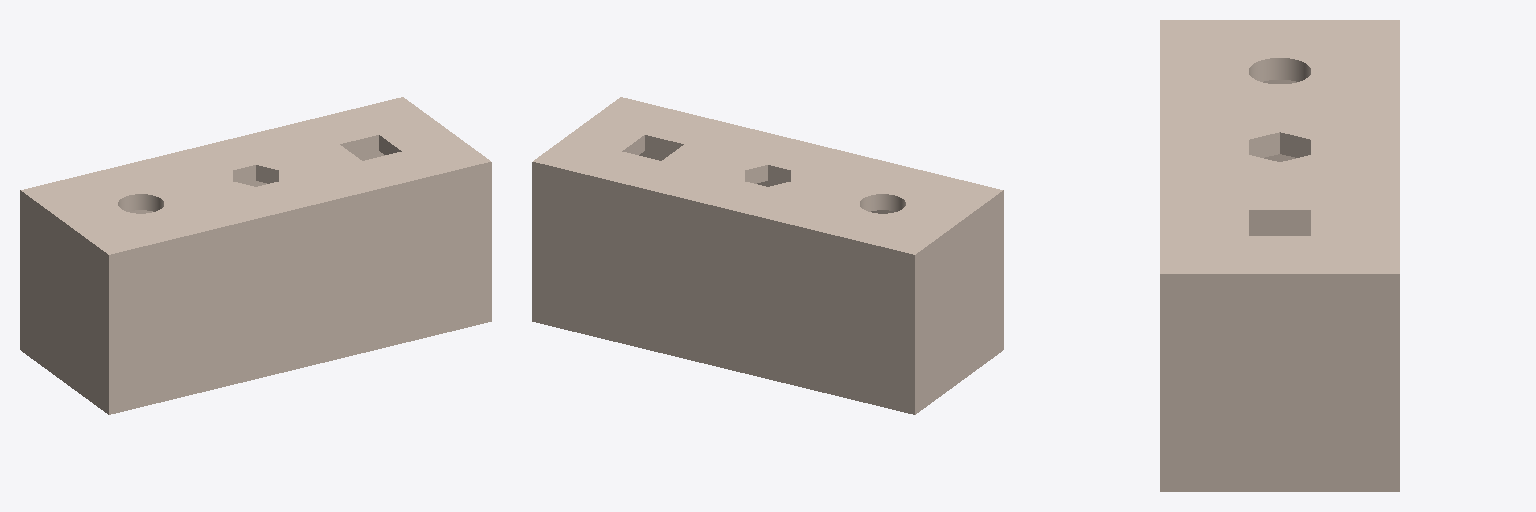
URDF robot description (board):
<?xml version="1.0"?>
<robot name="board">
    <material name="brown">
        <color rgba="0.87 0.81 0.76 1.0"/>
    </material>

    <link concave="yes" name="board">
        <inertial>
            <origin xyz="-0.00026 0.0 0.11809" rpy="0 0 0"/>
            <mass value="3.70082"/>
            <inertia ixx="0.03619"  ixy="0"  ixz="-0.00007" iyy="0.11598  " iyz="0" izz="0.12277" />
        </inertial>

        <visual>
            <origin xyz="-0.25 -0.1 0" rpy="0 0 0" />
            <geometry>
                <mesh filename="peg-in-hole-board.STL" scale="0.001 0.001 0.001"/>
            </geometry>
            <material name="brown"/>
        </visual>

        <collision concave="yes">
            <origin xyz="-0.25 -0.1 0" rpy="0 0 0" />
            <geometry>
                <mesh filename="peg-in-hole-board.STL" scale="0.001 0.001 0.001"/>
            </geometry>
        </collision>
    </link>

    <joint name="board__circle" type="fixed">
        <parent link="board"/>
        <child link="circle"/>
        <origin xyz="-0.15 0.0 0.190" rpy="0 0 0" />
    </joint>
    
    <link name="circle" >
        <inertial>
            <origin xyz="0 0 0" rpy="0 0 0"/>
            <mass value="0"/>
            <inertia ixx="0" ixy="0"  ixz="0" iyy="0" iyz="0" izz="0" />
        </inertial>
    </link>

    <joint name="board__hexagon" type="fixed">
        <parent link="board"/>
        <child link="hexagon"/>
        <origin xyz="0.0 0.0 0.190" rpy="0 0 0" />
    </joint>

    <link name="hexagon" >
        <inertial>
            <origin xyz="0 0 0" rpy="0 0 0"/>
            <mass value="0"/>
            <inertia ixx="0" ixy="0"  ixz="0" iyy="0" iyz="0" izz="0" />
        </inertial>
    </link>

    <joint name="board__square" type="fixed">
        <parent link="board"/>
        <child link="square"/>
        <origin xyz="0.15 0.0 0.190" rpy="0 0 0" />
    </joint>

    <link name="square" >
        <inertial>
            <origin xyz="0 0 0" rpy="0 0 0"/>
            <mass value="0"/>
            <inertia ixx="0" ixy="0"  ixz="0" iyy="0" iyz="0" izz="0" />
        </inertial>
    </link>
</robot>

--- What the picture shows (computed from the rendered views, not written in the file) ---
Views: 3 orthographic renders of the robot side by side, from view 1: azimuth 30°, elevation 25°; view 2: azimuth 150°, elevation 25°; view 3: azimuth 270°, elevation 25°.
Model board with 4 links and 3 joints (3 fixed), rooted at board, posed all joints at 0.
Links seen in each view (by area): view 1: board; view 2: board; view 3: board.
Boxes of the visible links, bbox=[...] form: board: bbox=[20, 97, 491, 414]; board: bbox=[532, 97, 1003, 414]; board: bbox=[1160, 20, 1399, 491].
Bounding box of the posed robot: 0.5 × 0.2 × 0.2 m (x, y, z).
1 mesh visuals loaded from 1 distinct referenced files (1 binary STL).
